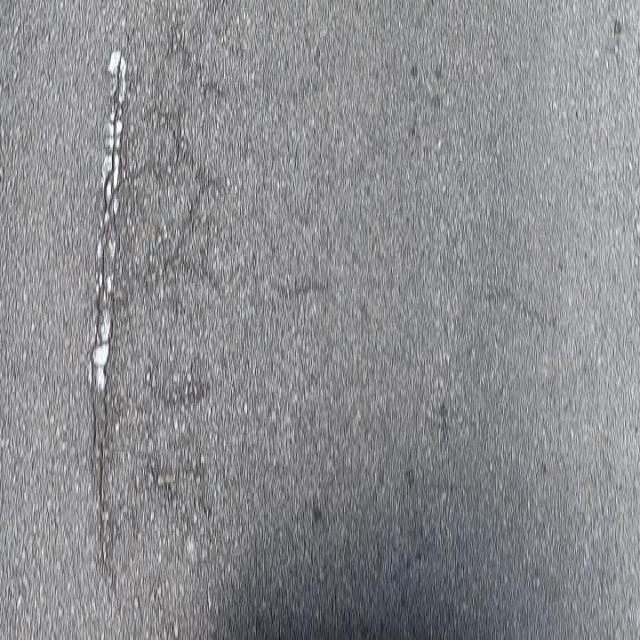cracks: (88, 28, 152, 563)
